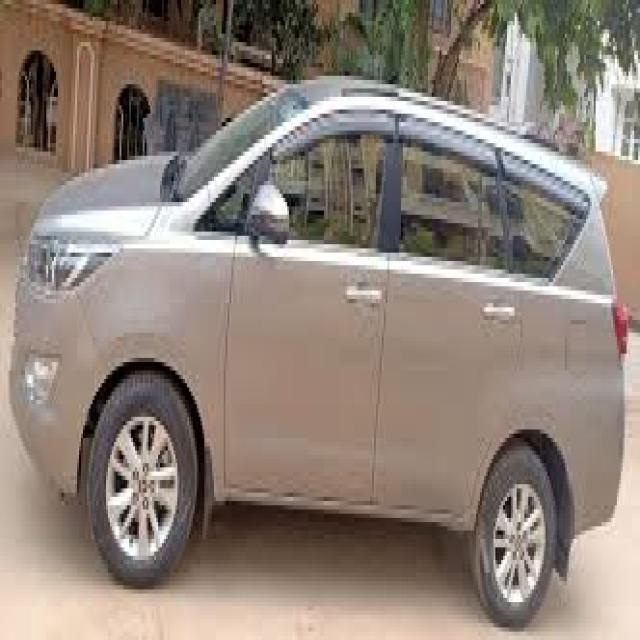light_vehicle: (9, 74, 628, 629)
